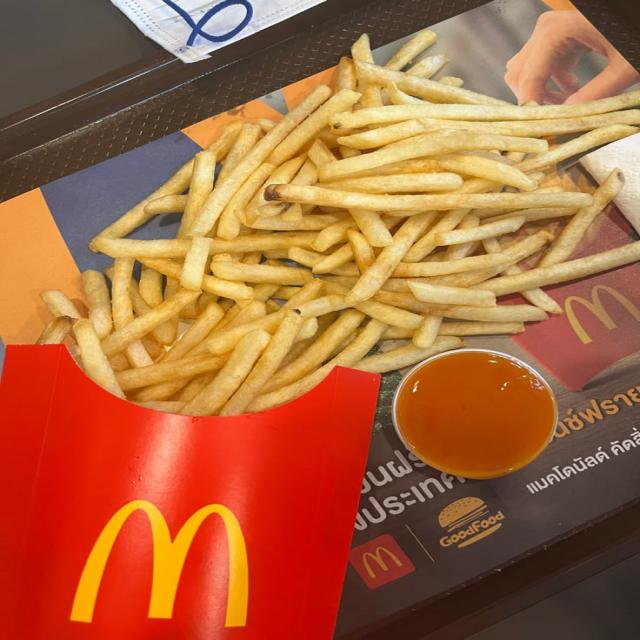potato fries: (39, 30, 639, 415)
